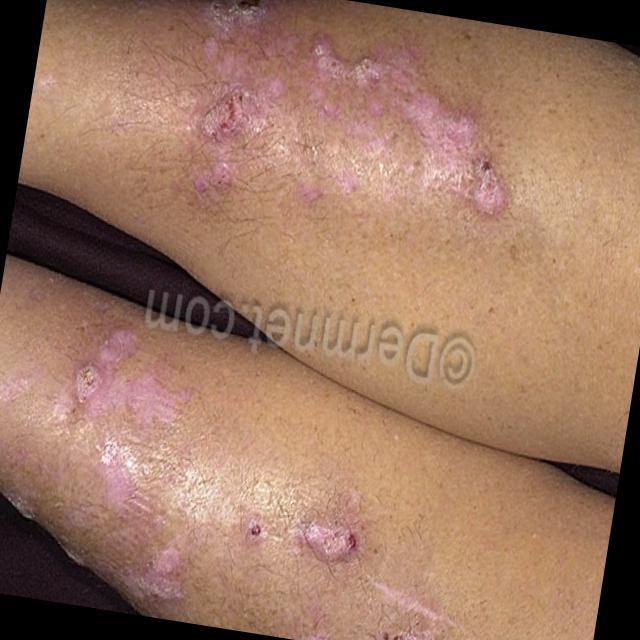Eczema: (20, 329, 360, 620), (159, 0, 506, 245)
